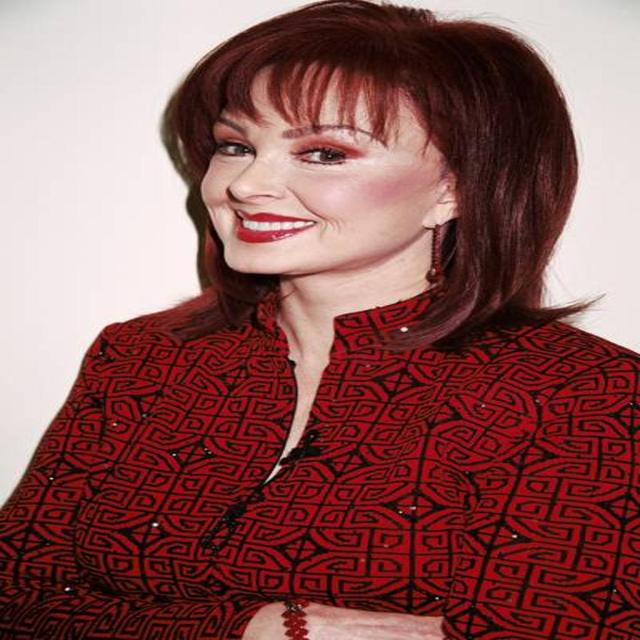Face: (198, 90, 476, 275)
